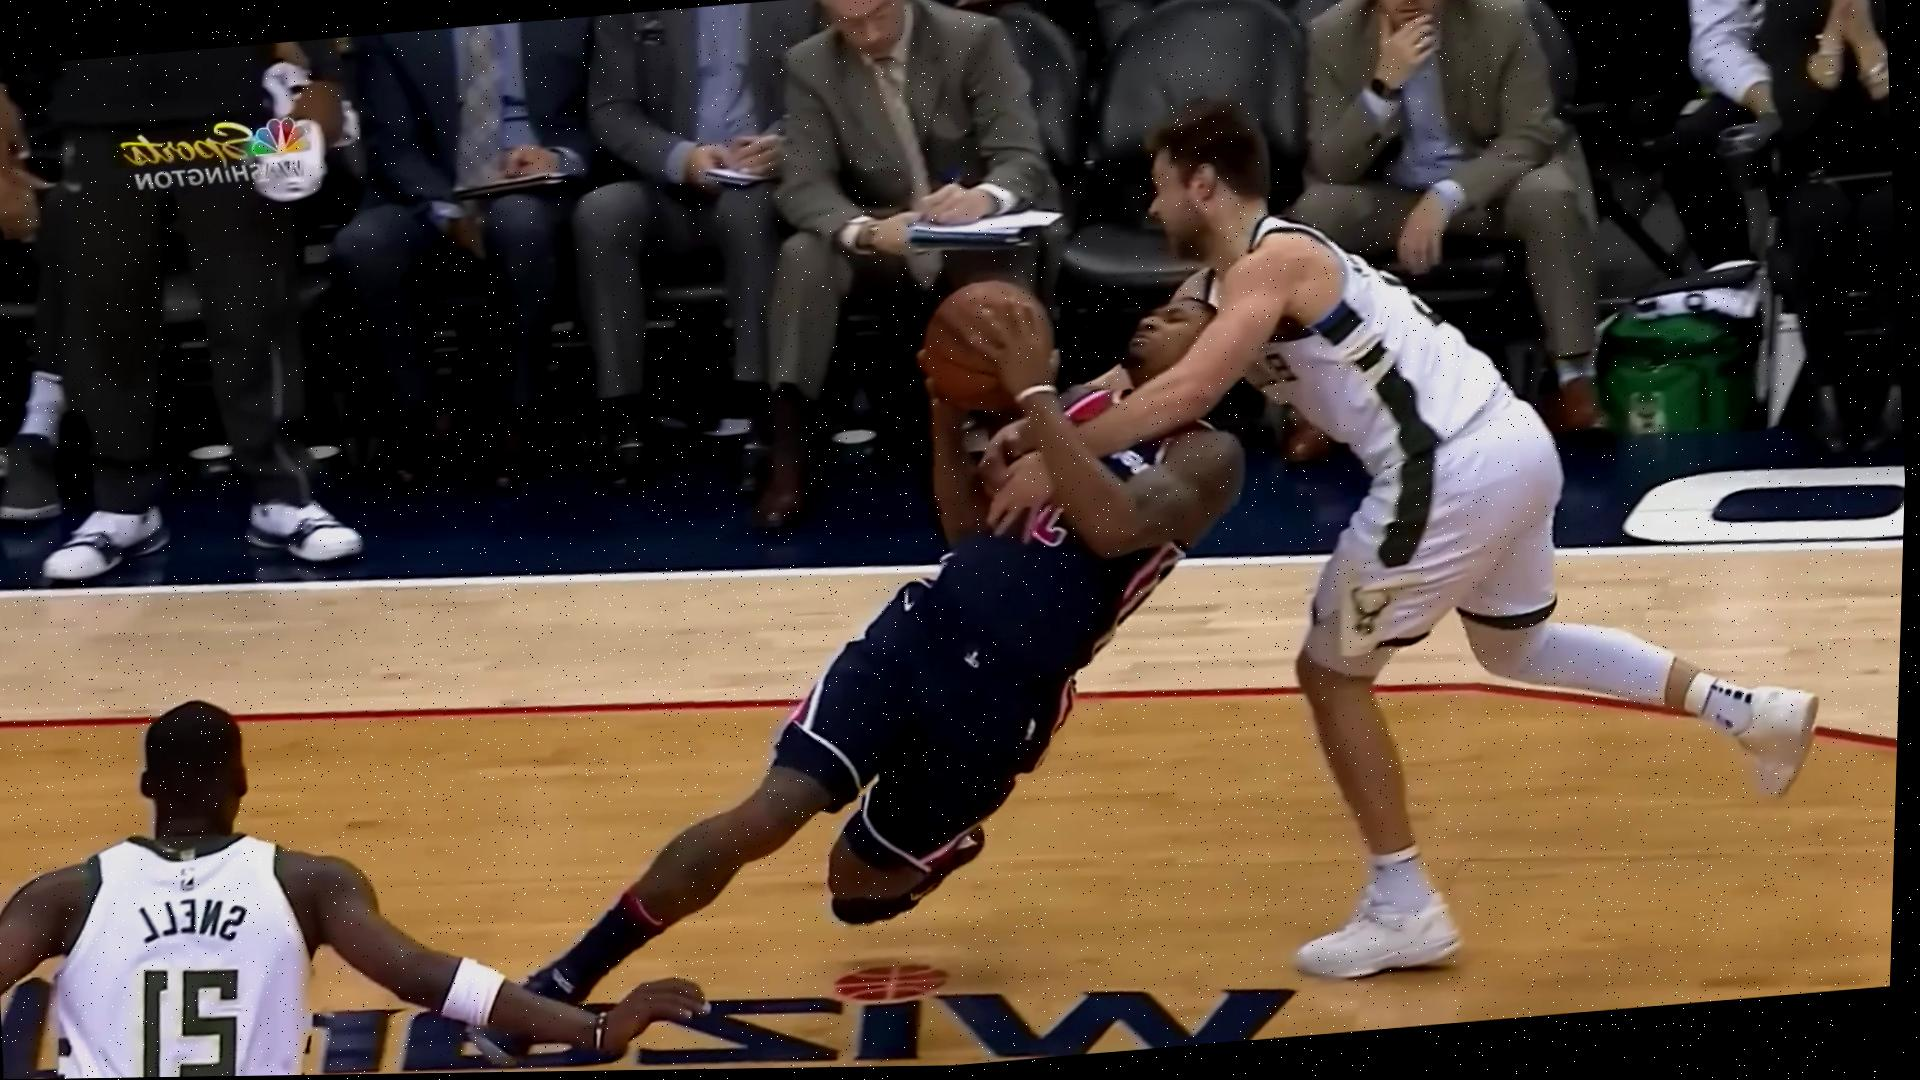foul: (546, 63, 1669, 1002)
